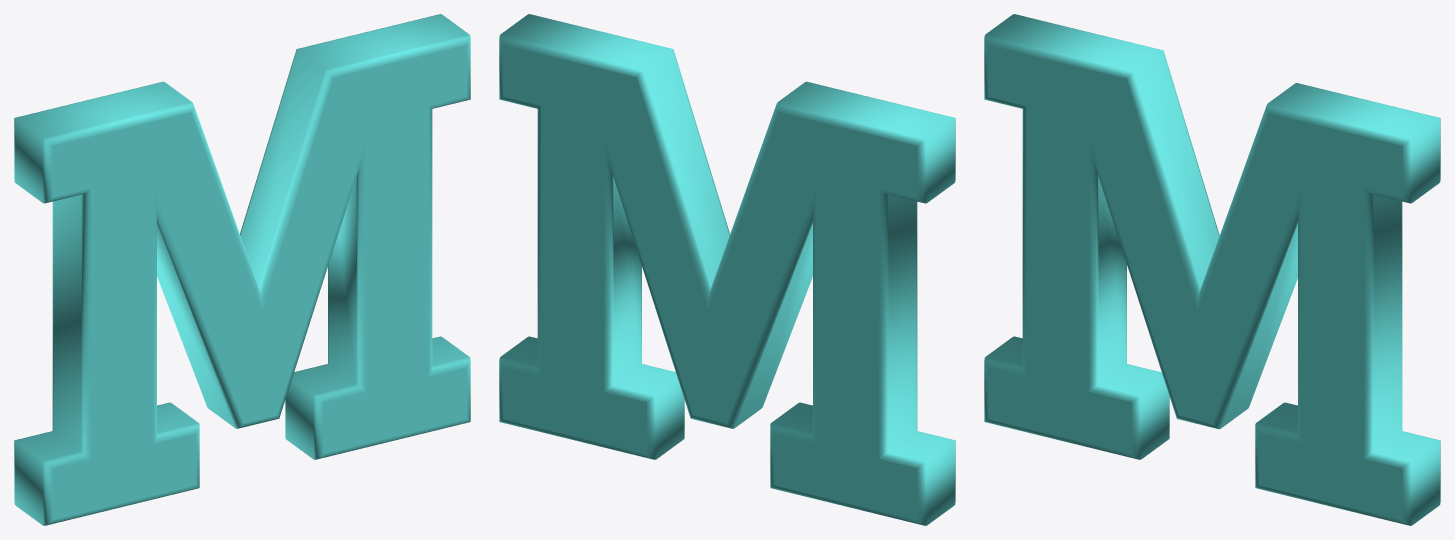
The model's file is letraM.gltf.
3 views of the same model, side by side, from view 1: azimuth 30°, elevation 25°; view 2: azimuth 150°, elevation 25°; view 3: azimuth 330°, elevation 25° (orthographic).
Visible parts, largest first — view 1: Text; view 2: Text; view 3: Text.
Part boxes in pixels (left/top/right/bottom): Text: left=14, top=14, right=470, bottom=525; Text: left=499, top=14, right=955, bottom=525; Text: left=984, top=14, right=1440, bottom=525.
Size of the model in its own units: 0.7165 by 0.6208 by 0.1.
